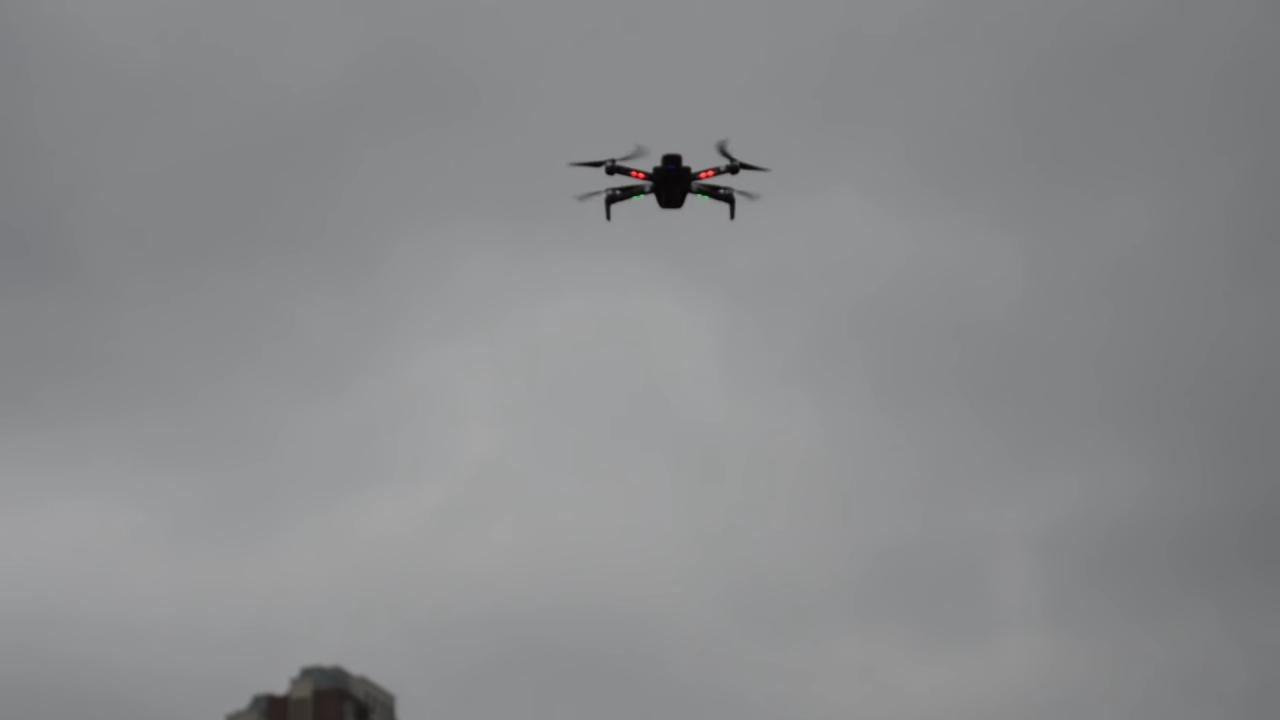Drone: (556, 128, 781, 237)
